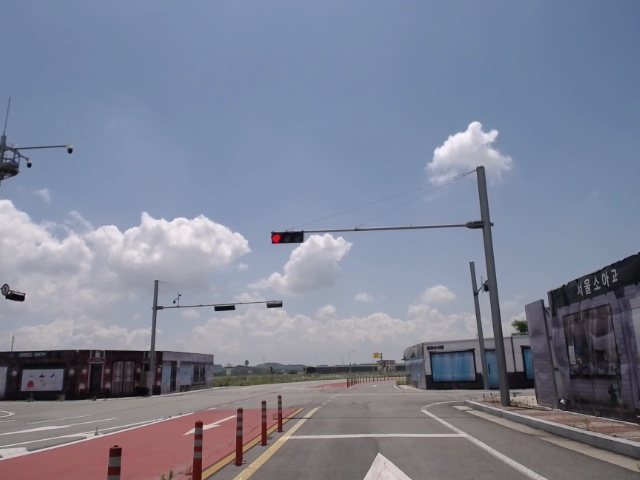red_3: (270, 229, 305, 244)
